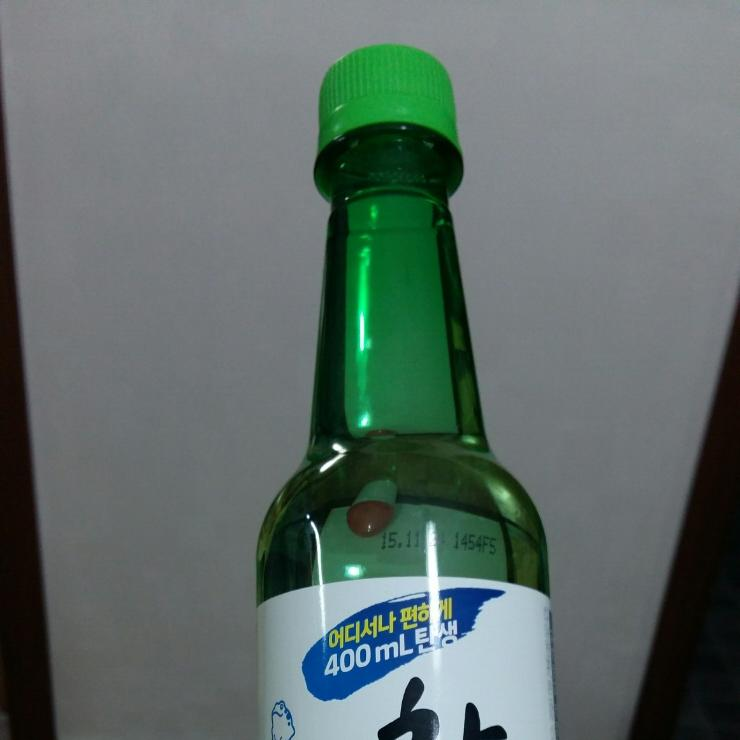soju: (246, 37, 570, 740)
